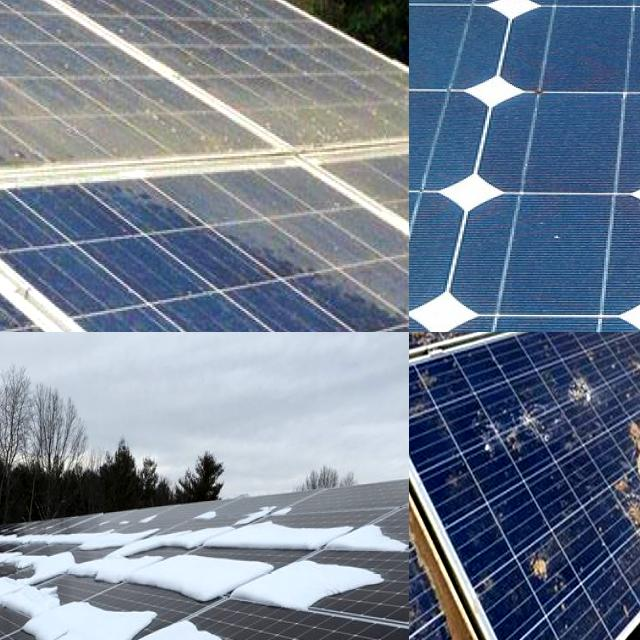bird: (503, 368, 594, 466), (511, 529, 573, 626), (613, 410, 640, 534), (409, 501, 444, 587), (409, 332, 456, 373), (409, 332, 452, 367), (465, 332, 516, 356), (409, 332, 429, 376), (409, 332, 434, 352)
dust: (81, 166, 322, 298), (106, 0, 284, 90), (0, 91, 198, 159), (330, 204, 409, 332), (224, 101, 409, 149), (0, 9, 55, 99), (0, 0, 59, 71), (2, 0, 91, 38), (0, 282, 58, 332)
panel: (0, 571, 146, 640), (260, 545, 392, 620), (159, 542, 280, 612), (229, 493, 332, 570), (92, 604, 230, 640), (333, 505, 409, 569), (10, 528, 91, 582), (88, 512, 158, 568), (0, 550, 32, 630), (0, 534, 35, 606), (184, 506, 224, 524)
